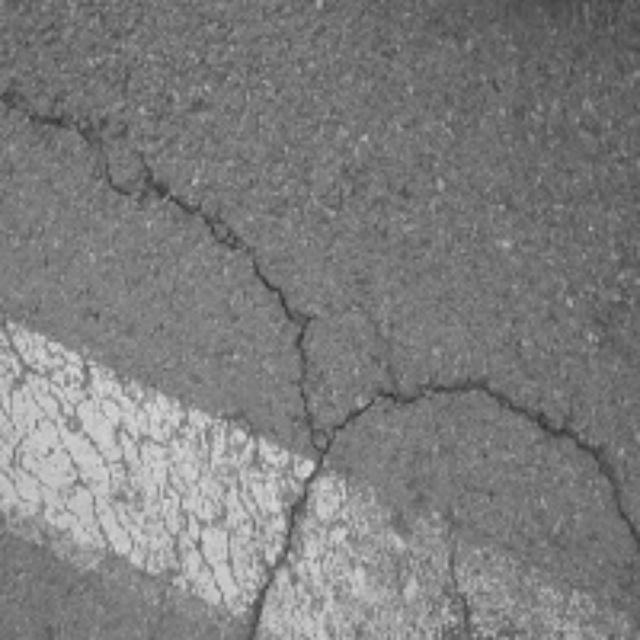Crack: (14, 93, 639, 640)
